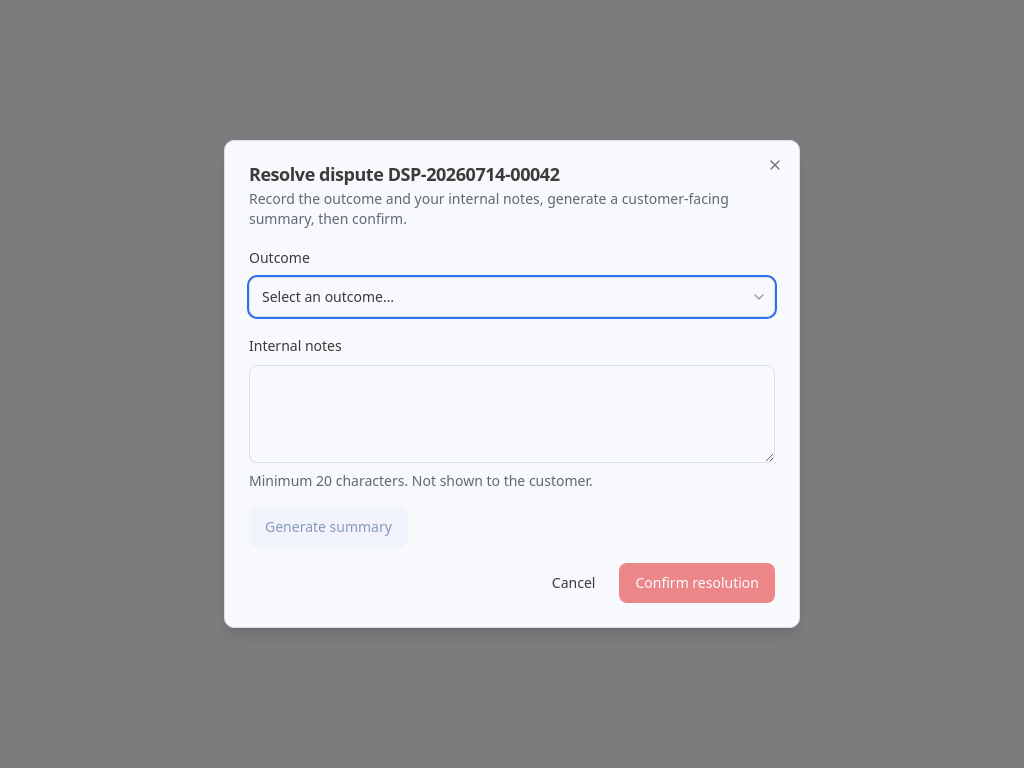
Scenario: OpsResolveModal › keeps Generate Summary disabled until an outcome and ≥20-char notes are present (AC-OPS-04)
Check: the button "Generate summary" is disabled, box [249,507,408,547]
Select "Upheld" in the dropdown labelled "Outcome" at (512, 297), box [249,277,775,317]
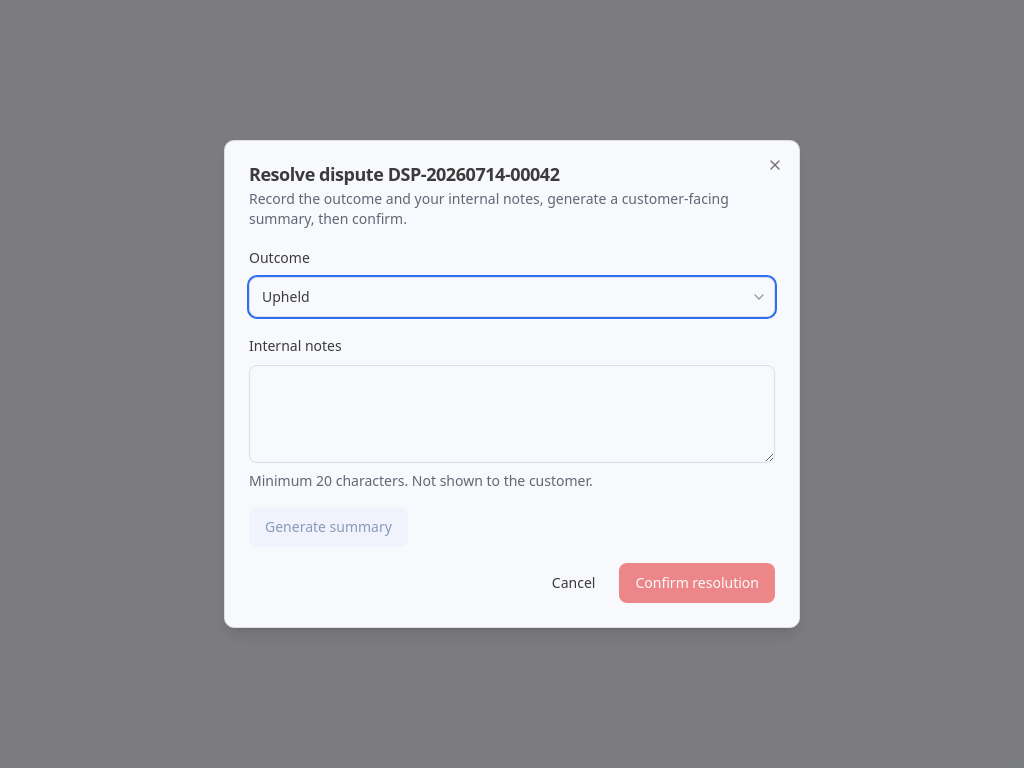
Type "too short" into the text box labelled "Internal notes".
click(512, 414); type("too short")  # box [249,365,775,463]
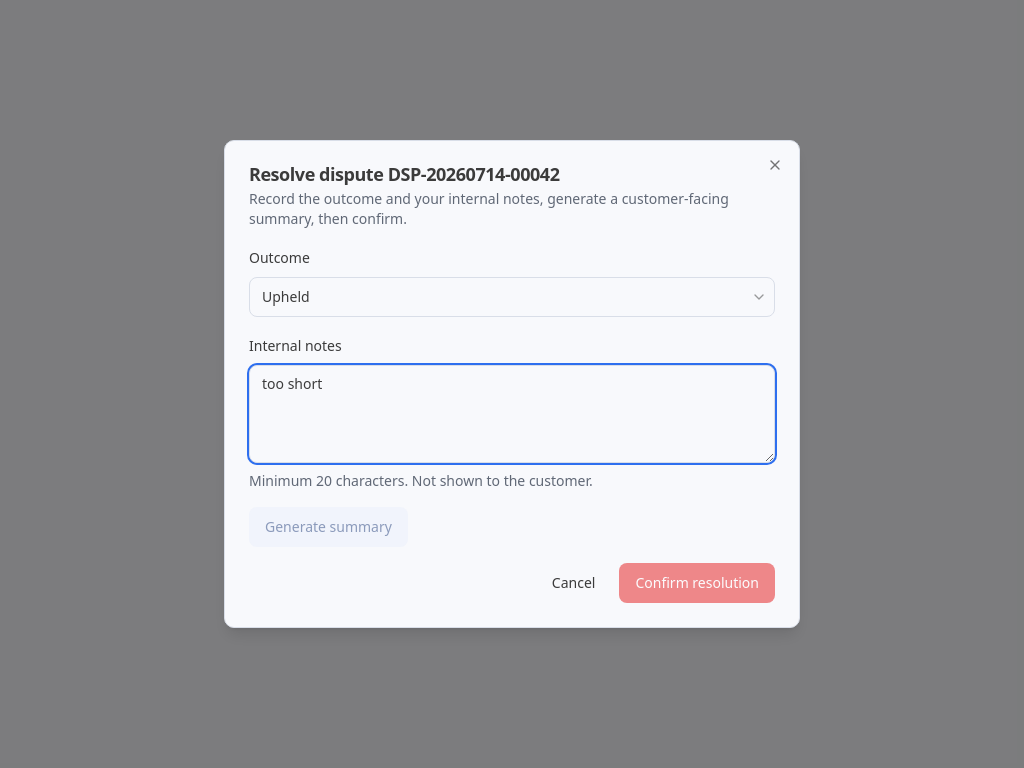
Check: the button "Generate summary" is disabled, box [249,507,408,547]
Replace the text in the text box labelled "Internal notes" with "Refund approved after reviewing the evidence." at (512, 414), box [249,365,775,463]
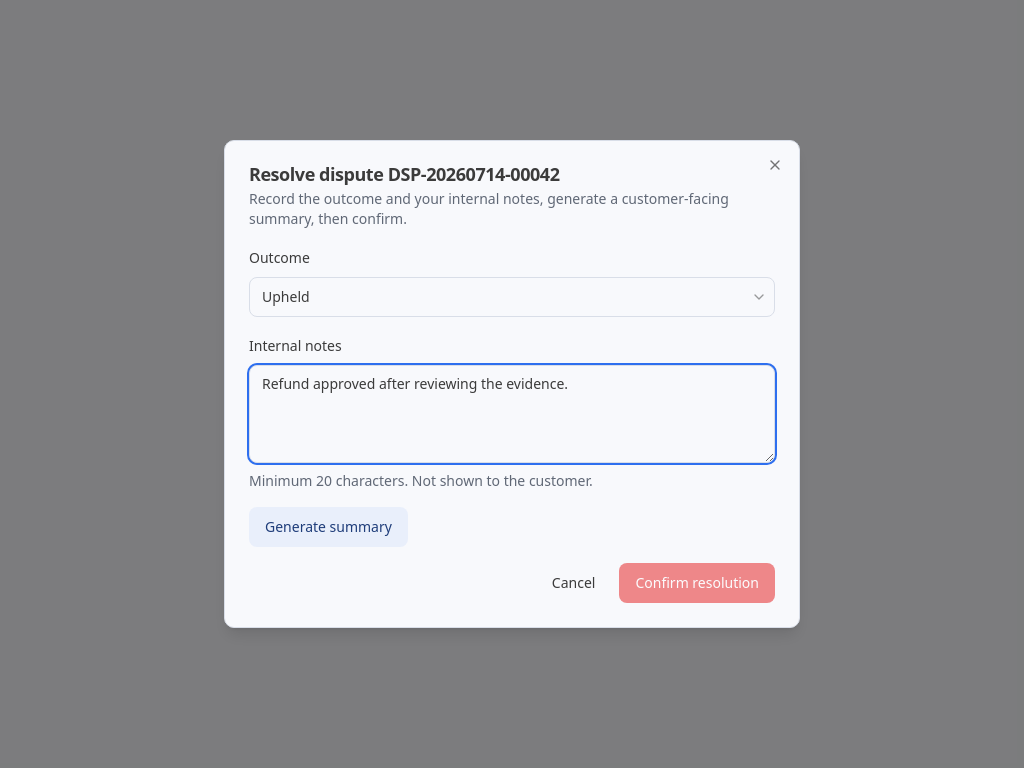
Check: the button "Generate summary" is enabled, box [249,507,408,547]
